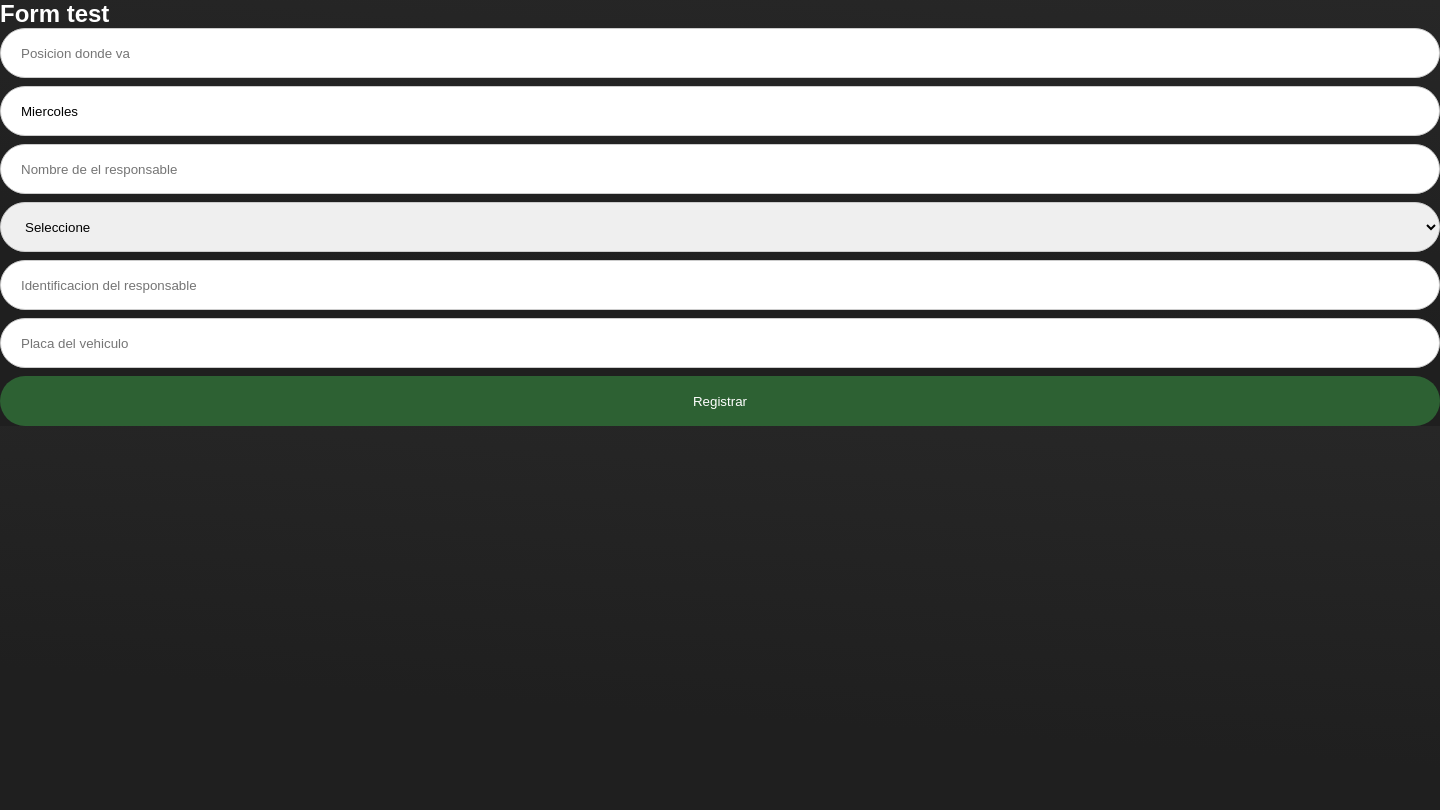
Test: FormCrearVehicles test › should fail on submit all fields missing
The width and height of the screenshot is (1440, 810).
Step 1. Click the submit button → (720, 401), box [0,376,1439,426]
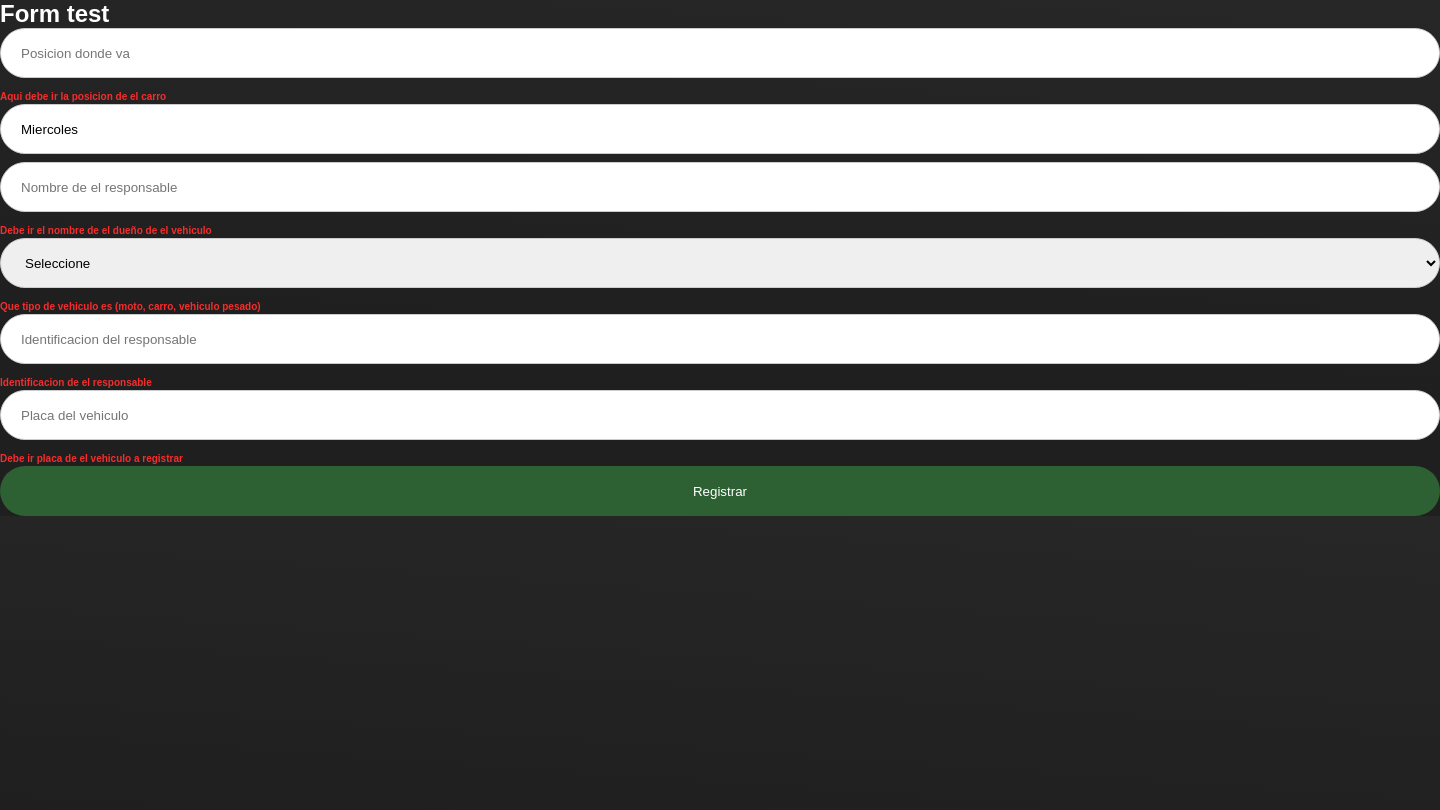
expect the text "Aqui debe ir la posicion de el carro" is shown: met, box [0,91,166,102]
expect the text "Debe ir el nombre de el dueño de el vehiculo" is shown: met, box [0,225,212,236]
expect the text "Que tipo de vehiculo es (moto, carro, vehiculo pesado)" is shown: met, box [0,301,261,312]
